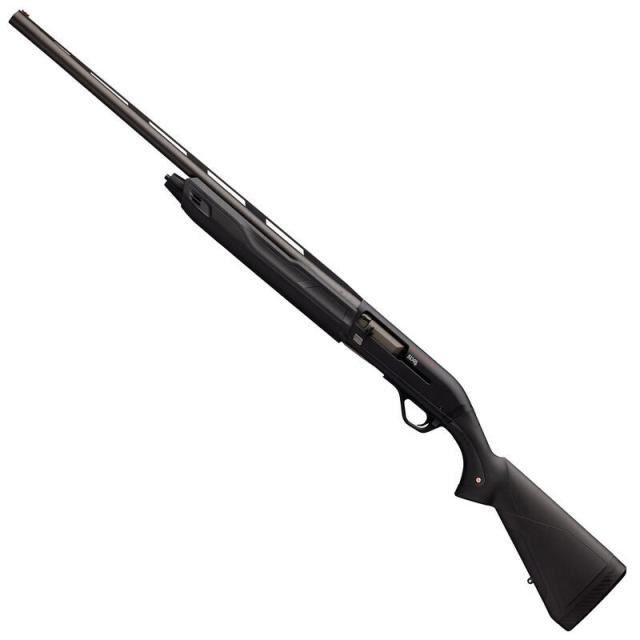ShotGun: (9, 10, 629, 633)
